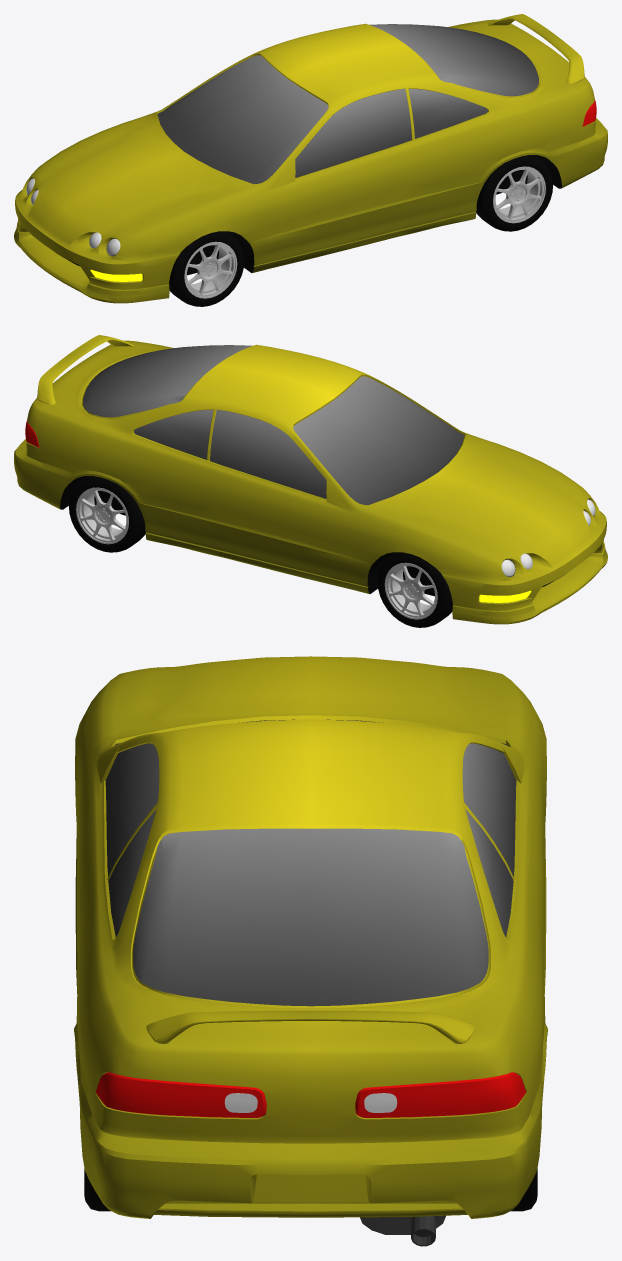
Rendered from Acura integra.fbx.
The picture shows the model from 3 angles, top to bottom: view 1: azimuth 30°, elevation 25°; view 2: azimuth 150°, elevation 25°; view 3: azimuth 270°, elevation 25°; orthographic projection. The views are drawn at different scales.
Parts seen in each view (by area): view 1: Actura Integra, Cilindro.004, Cilindro.002; view 2: Actura Integra, Cilindro.003, Cilindro.001; view 3: Actura Integra.
Boxes of the visible parts, x1=… form: Actura Integra: x1=14, y1=14, x2=607, y2=303; Cilindro.004: x1=475, y1=155, x2=552, y2=231; Cilindro.002: x1=169, y1=231, x2=244, y2=306; Actura Integra: x1=14, y1=335, x2=607, y2=624; Cilindro.003: x1=69, y1=476, x2=146, y2=552; Cilindro.001: x1=377, y1=552, x2=452, y2=627; Actura Integra: x1=74, y1=656, x2=547, y2=1246.
Size of the model in its own units: 1768 by 531 by 691.
7 materials, 4 textured.
